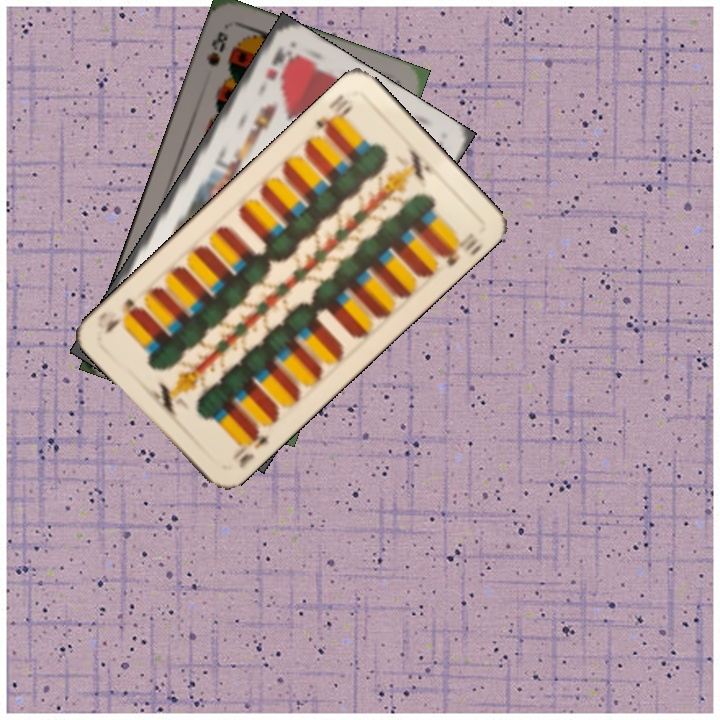E10: (311, 89, 356, 137), (234, 421, 271, 471)
HK: (262, 42, 288, 85)
S8: (202, 27, 230, 69)
